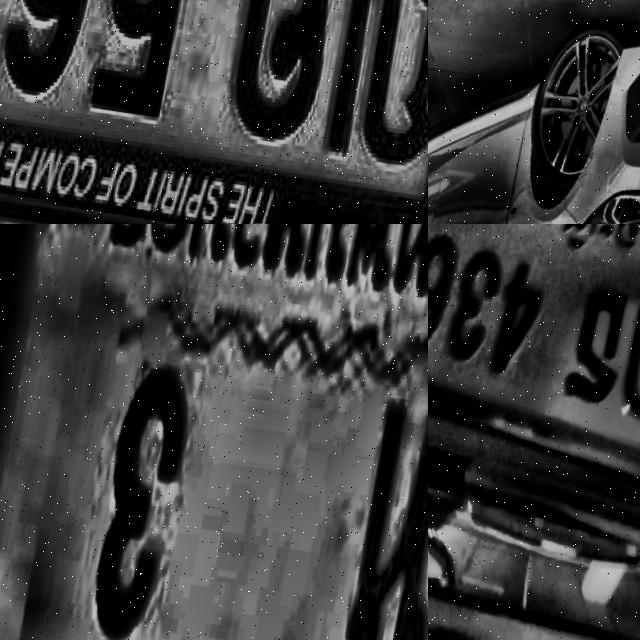license-plate: (0, 224, 428, 640), (0, 0, 428, 224), (428, 224, 640, 448)
